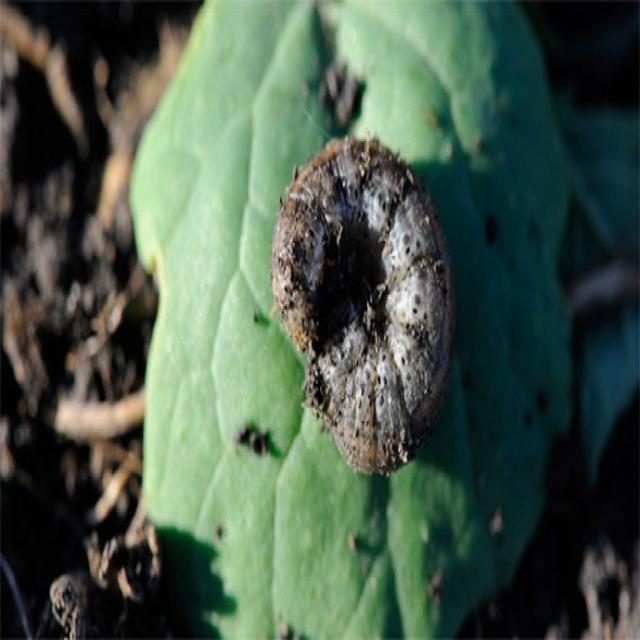Cutworm: (270, 130, 450, 471)
